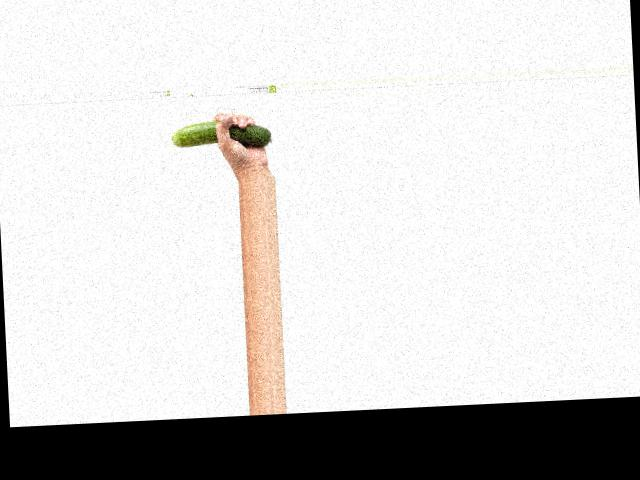cucumber: (170, 117, 270, 150)
